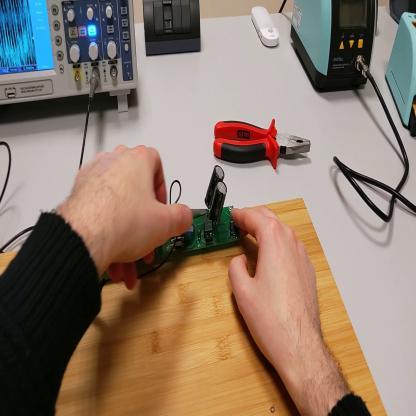hand: (228, 201, 327, 380), (67, 143, 195, 276)
high voltage board: (136, 169, 250, 271)
oscilloscope: (3, 1, 138, 122)
oscilloscope probe tip: (192, 207, 209, 220)
pliers: (214, 113, 314, 173)
socket: (390, 1, 416, 23)
welder base: (386, 11, 415, 136)
welder station: (291, 2, 379, 90)
working area: (1, 200, 387, 415)
